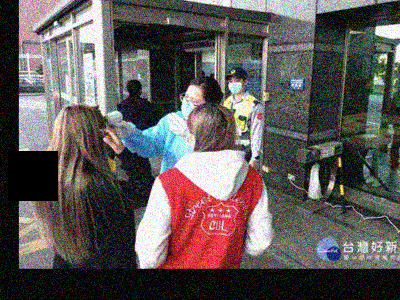with_mask: (179, 92, 202, 120), (227, 76, 244, 94)
